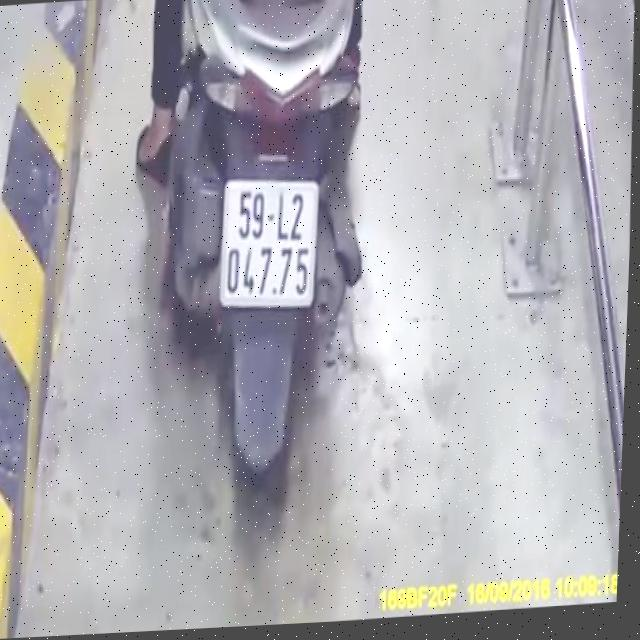motorcycle: (144, 0, 392, 515)
plate: (214, 170, 323, 313)
